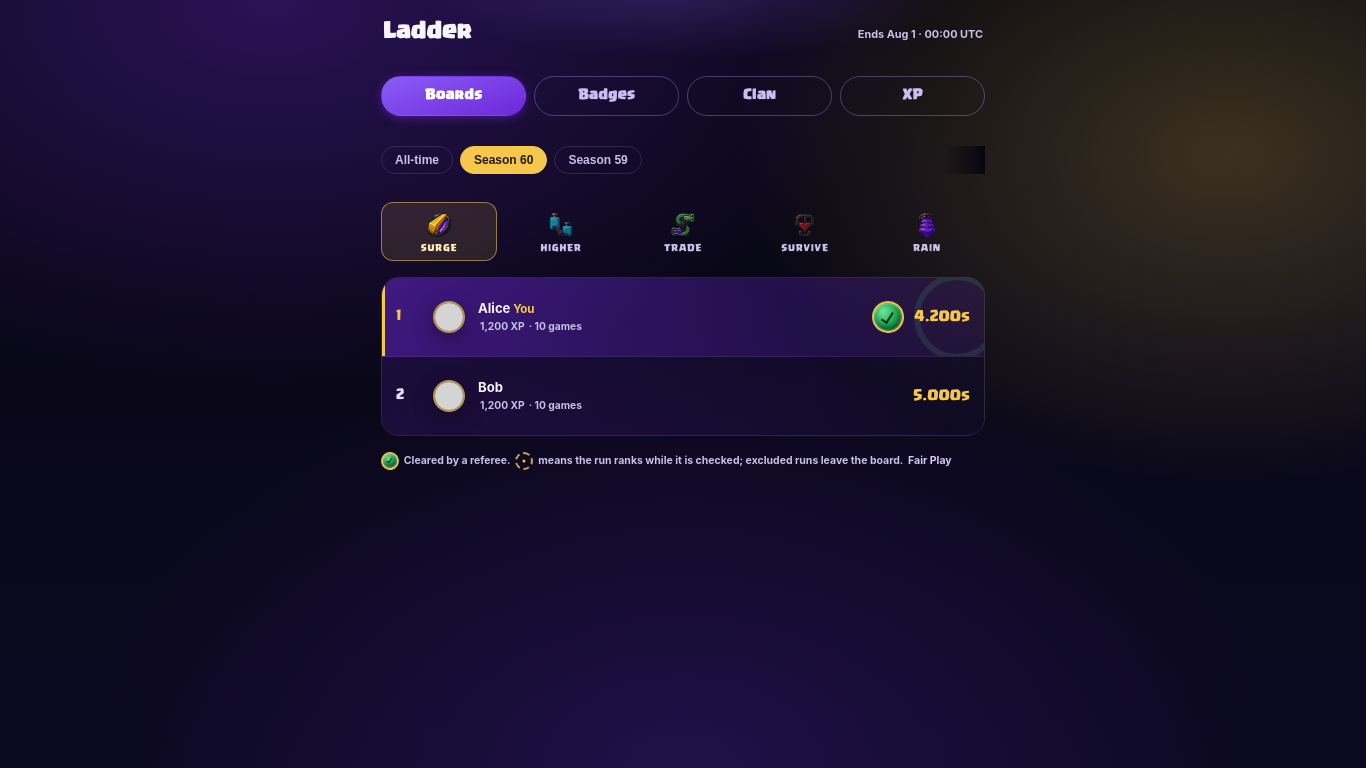
Test case: Leaderboards › switches to current-clan all-time rankings for a linked player
Step 1. Click the tab "Clan" → (760, 96), box [687,76,832,116]
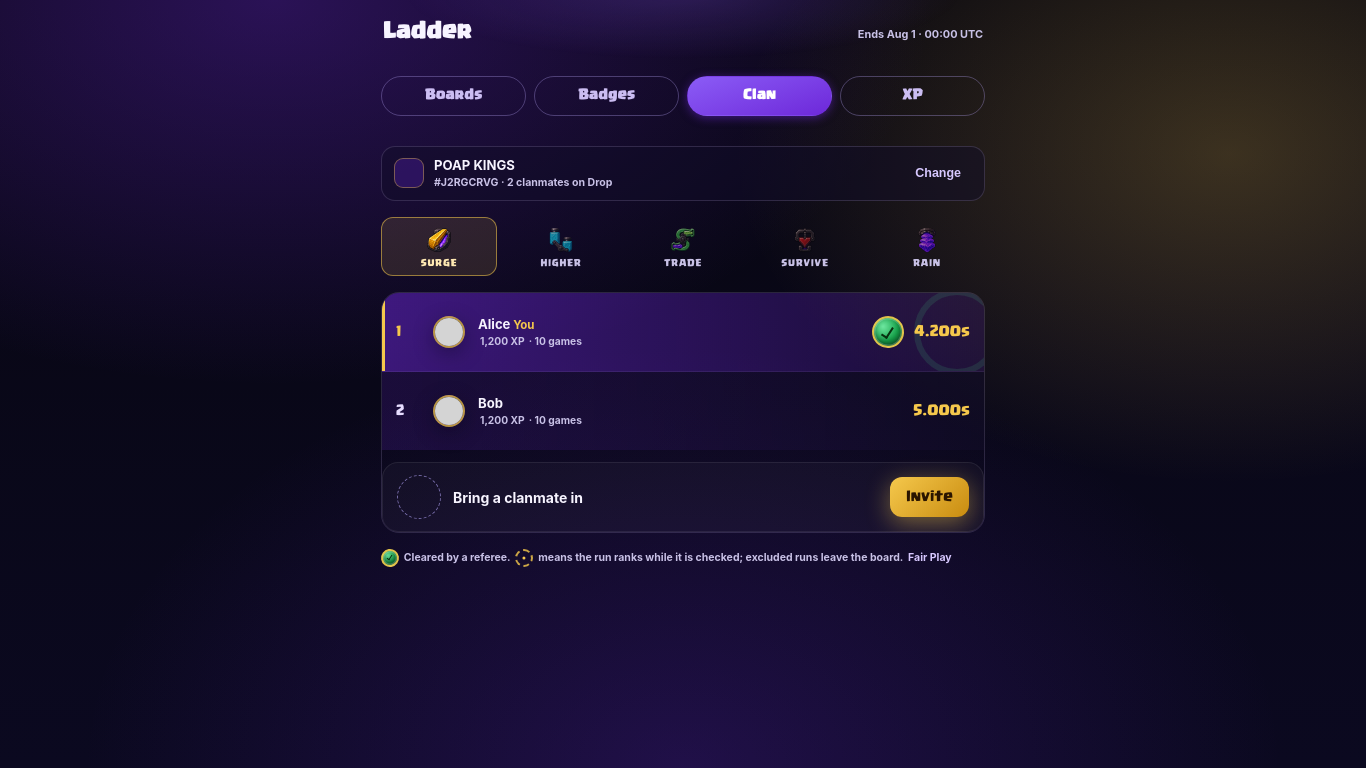
Expected: the element with class "ed-board__clan" shows "POAP KINGS", [434,156,515,172]
Expected: the element with class "ed-board__clan" shows "#J2RGCRVG", [434,176,507,189]
Expected: the element with class "ed-board__clan" shows "2 clanmates on Drop", [381,146,985,201]
